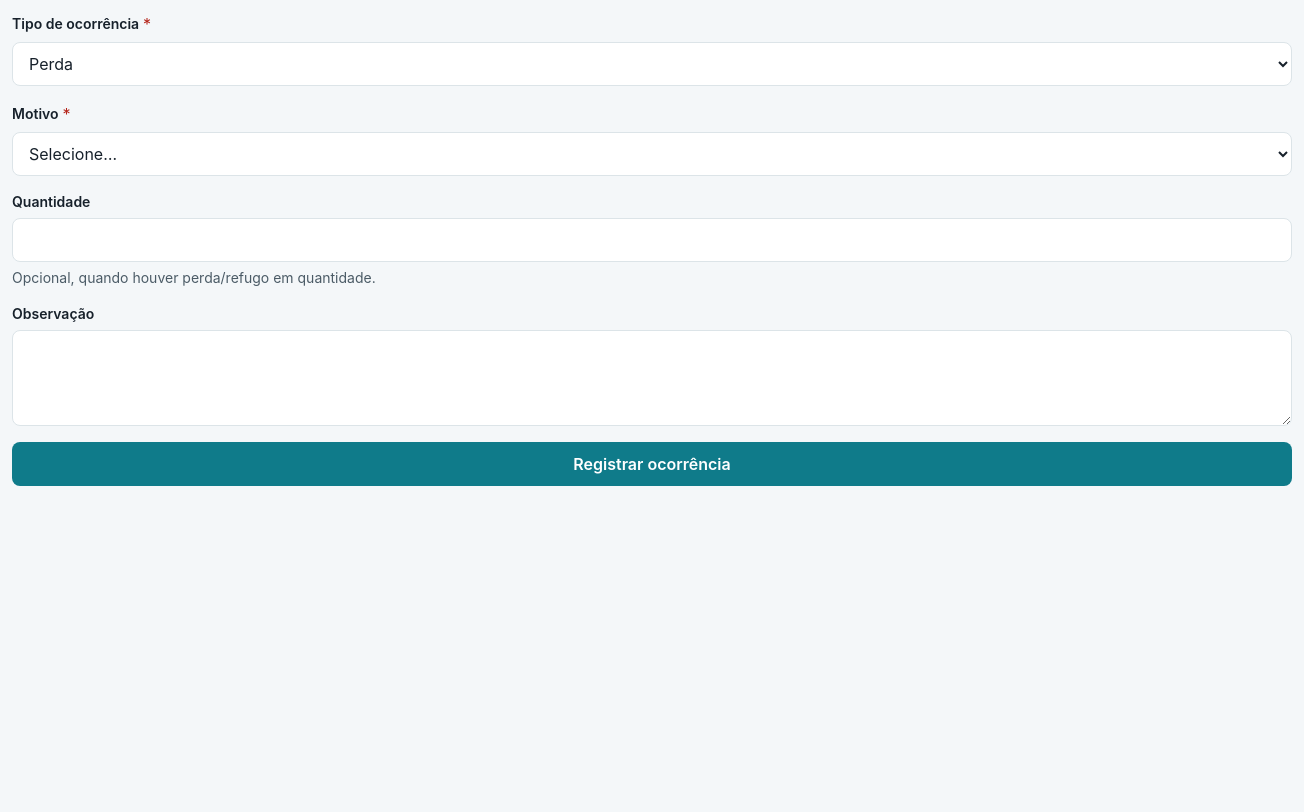
OcorrenciaForm › bloqueia o envio de perda sem motivo e mostra erro acessível (FE-11)
Click the button "Registrar ocorrência": click(652, 464) [12,442,1292,486]
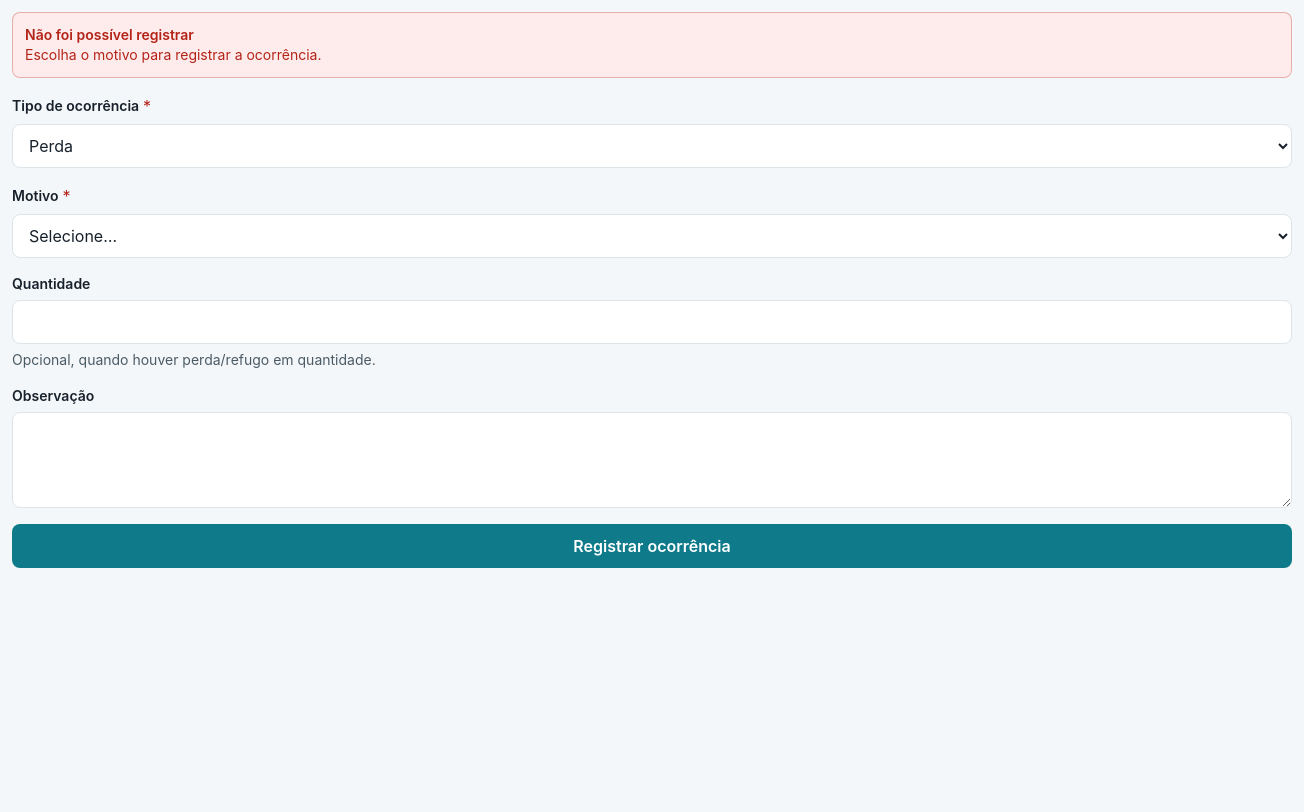
Expected: the message shows "Escolha o motivo", [25,46,322,63]
